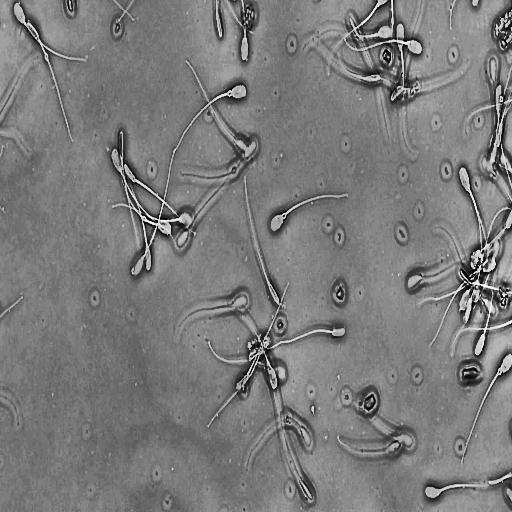coiled-tail: (182, 166, 237, 235), (263, 329, 333, 349), (249, 345, 264, 360), (232, 166, 237, 174)
dirt-particles: (493, 5, 512, 56), (240, 2, 257, 36), (359, 389, 380, 415), (334, 284, 347, 305)
distal-droplet: (44, 52, 48, 61)
normal: (460, 349, 512, 468), (25, 21, 74, 146), (186, 61, 250, 156), (171, 81, 249, 157), (112, 148, 173, 237), (133, 152, 174, 278), (243, 173, 281, 308), (124, 163, 195, 234), (177, 166, 237, 248), (12, 1, 89, 64), (336, 396, 413, 447), (267, 190, 349, 237), (180, 141, 257, 180), (177, 293, 248, 335), (459, 167, 484, 283), (396, 22, 414, 155), (126, 175, 151, 270), (262, 324, 348, 351), (423, 477, 512, 503), (302, 24, 392, 49), (475, 258, 496, 355), (112, 203, 192, 227), (408, 265, 474, 290), (337, 435, 404, 456), (345, 39, 422, 54), (249, 335, 271, 360)
proximal-droplet: (497, 368, 502, 376), (282, 212, 287, 220), (228, 90, 232, 97)
